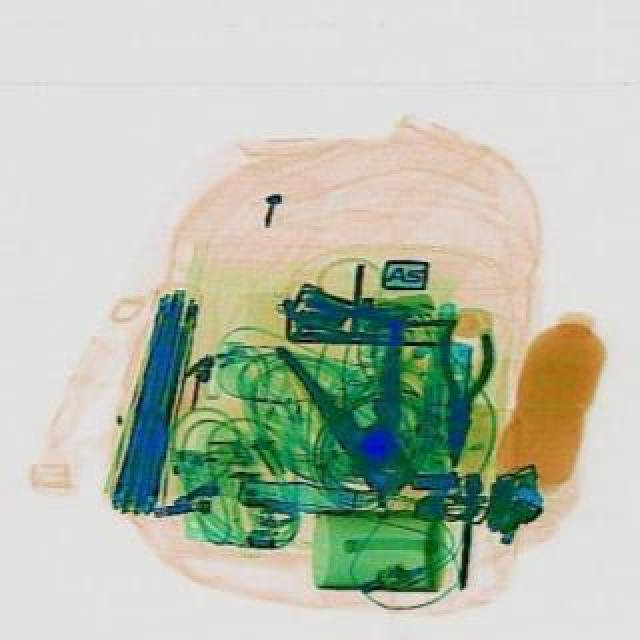wrench: (274, 304, 458, 508), (424, 318, 492, 470)
